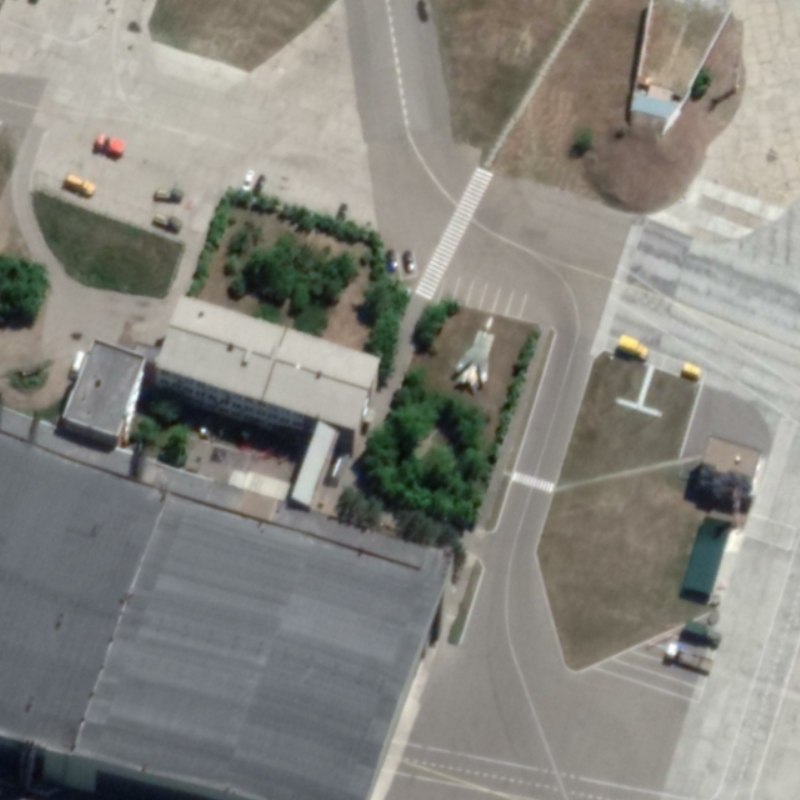A20: (451, 313, 496, 397)
